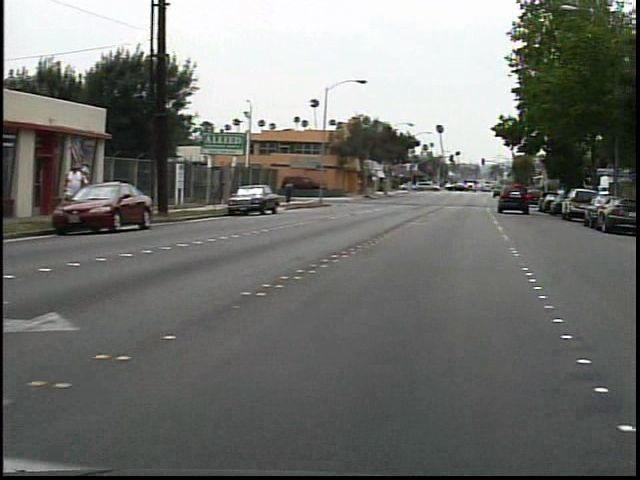person: (67, 158, 99, 226), (287, 178, 303, 208)
